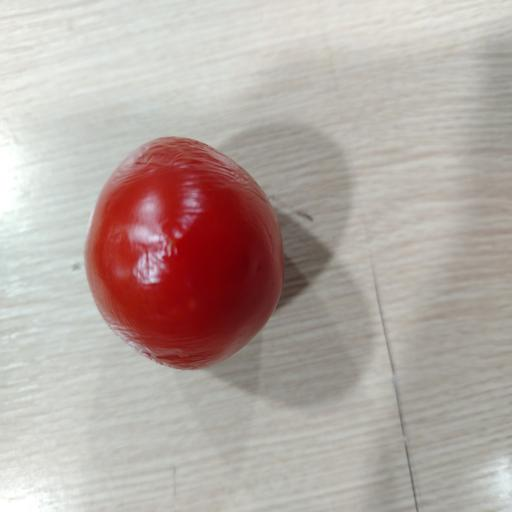spoiled: (85, 137, 283, 369)
